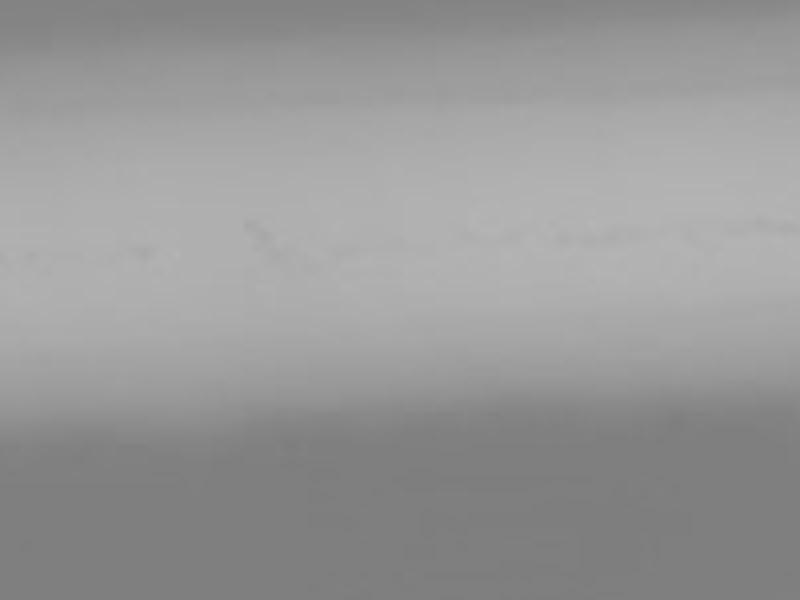defect: (242, 217, 265, 240), (132, 242, 152, 262)
